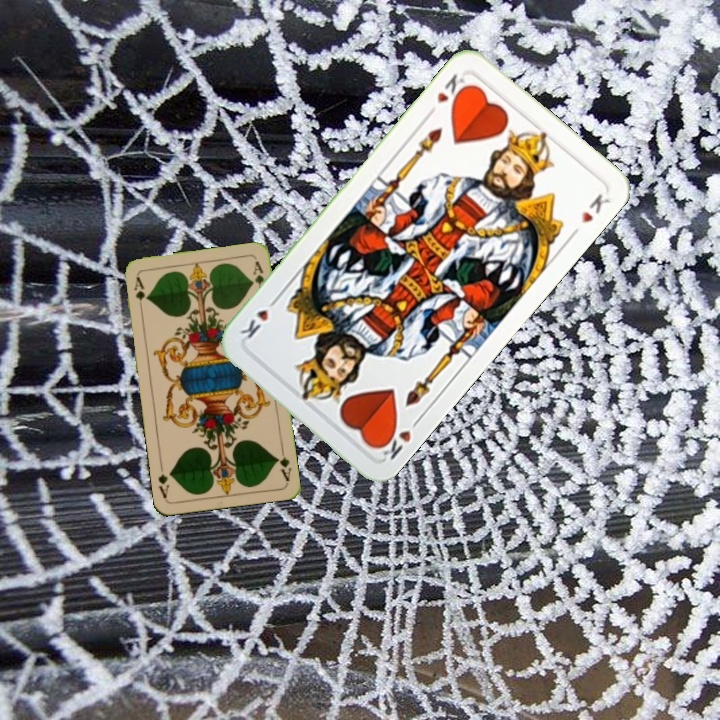GA: (273, 443, 294, 484), (130, 272, 149, 313)
HK: (373, 413, 424, 463), (432, 69, 471, 109)
